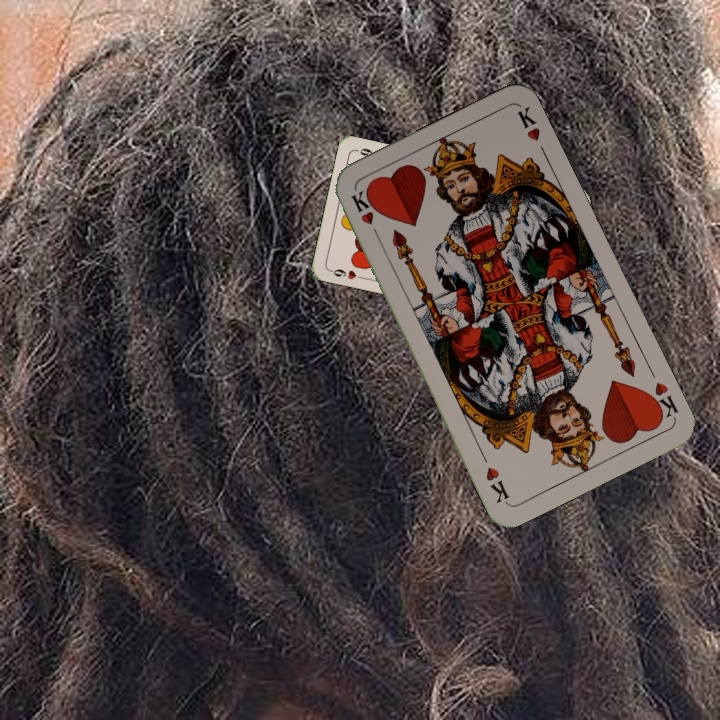H9: (325, 265, 366, 282)
HK: (347, 186, 383, 242), (643, 378, 681, 424)
